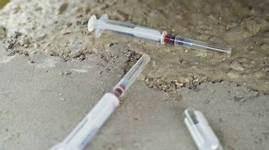Syringe: (39, 52, 152, 144), (84, 10, 238, 59)
